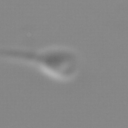normal: (1, 42, 43, 68)
